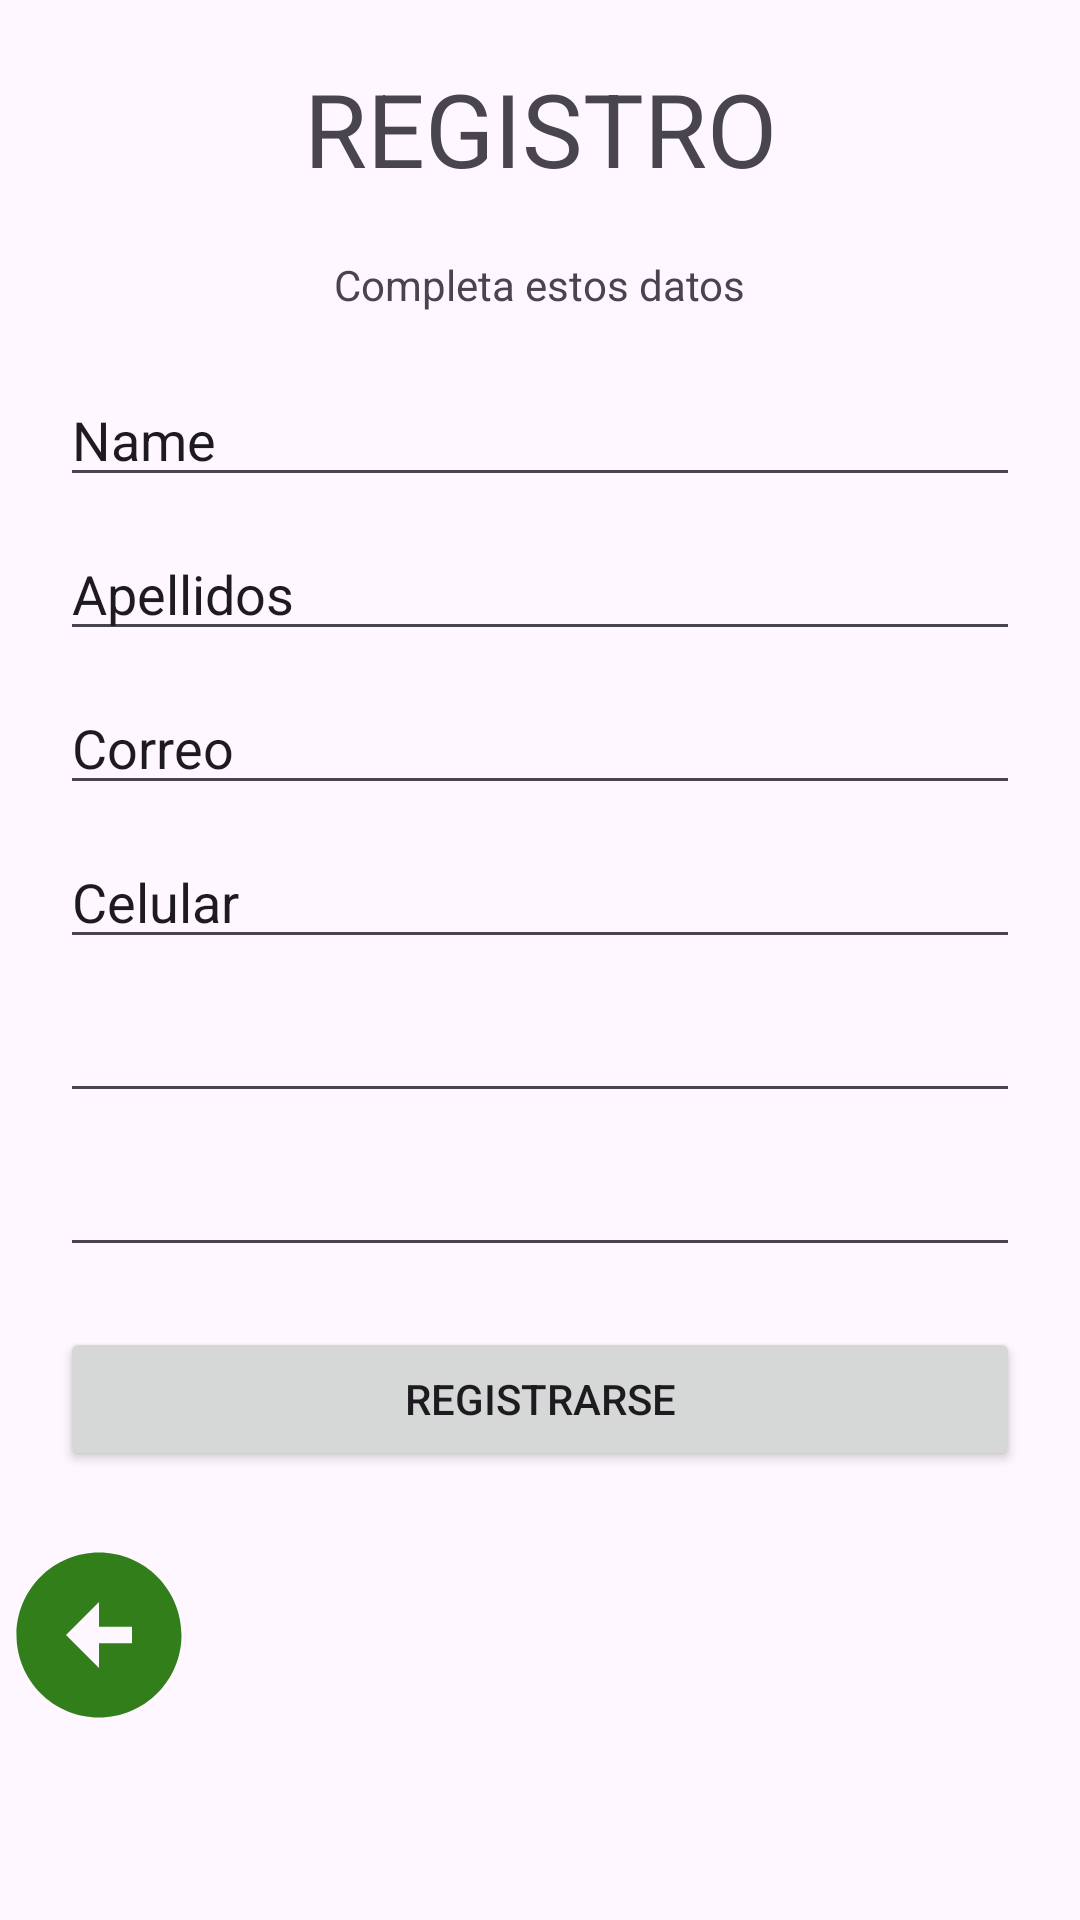

Where icons sit on this 1080w x 1920h app screen, as box=[x1, y1, x2, y2]:
arrow circle left: box=[16, 1552, 182, 1718]
